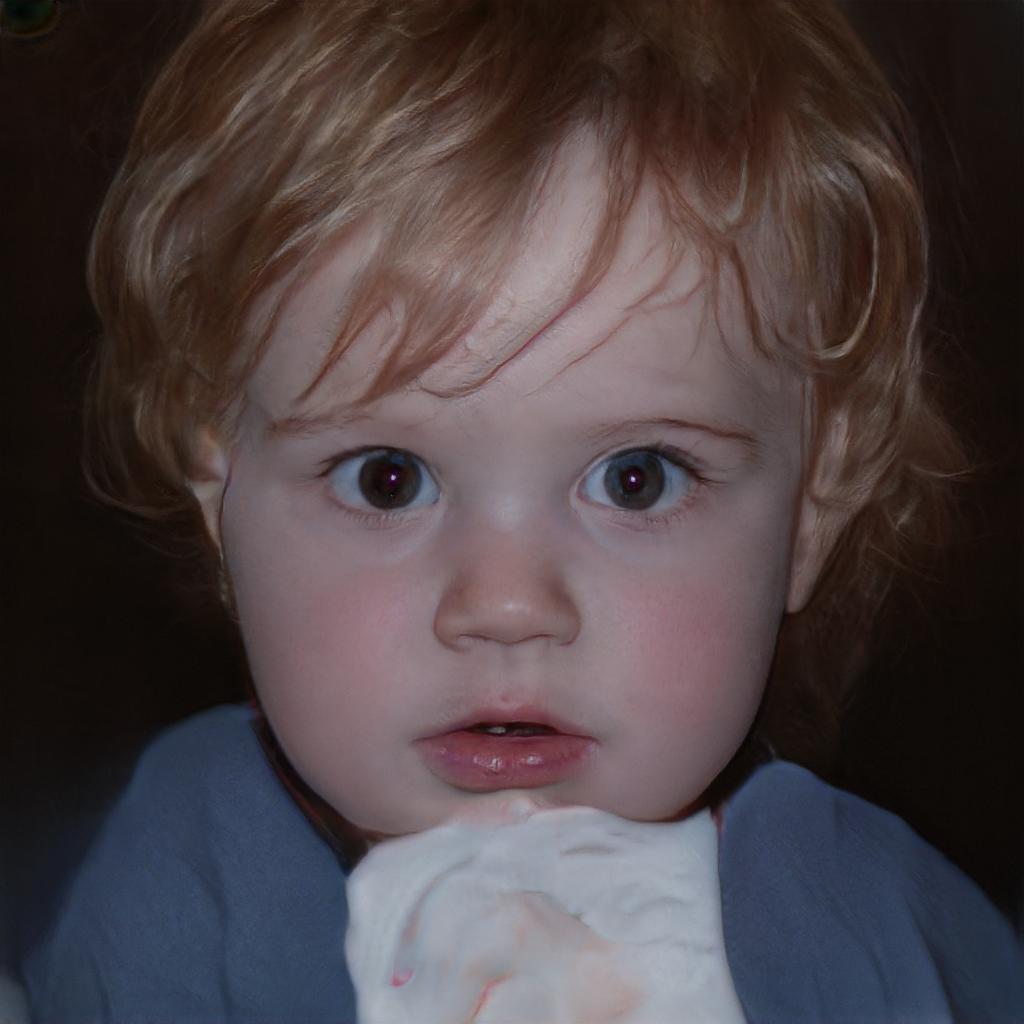face: (219, 124, 793, 836)
